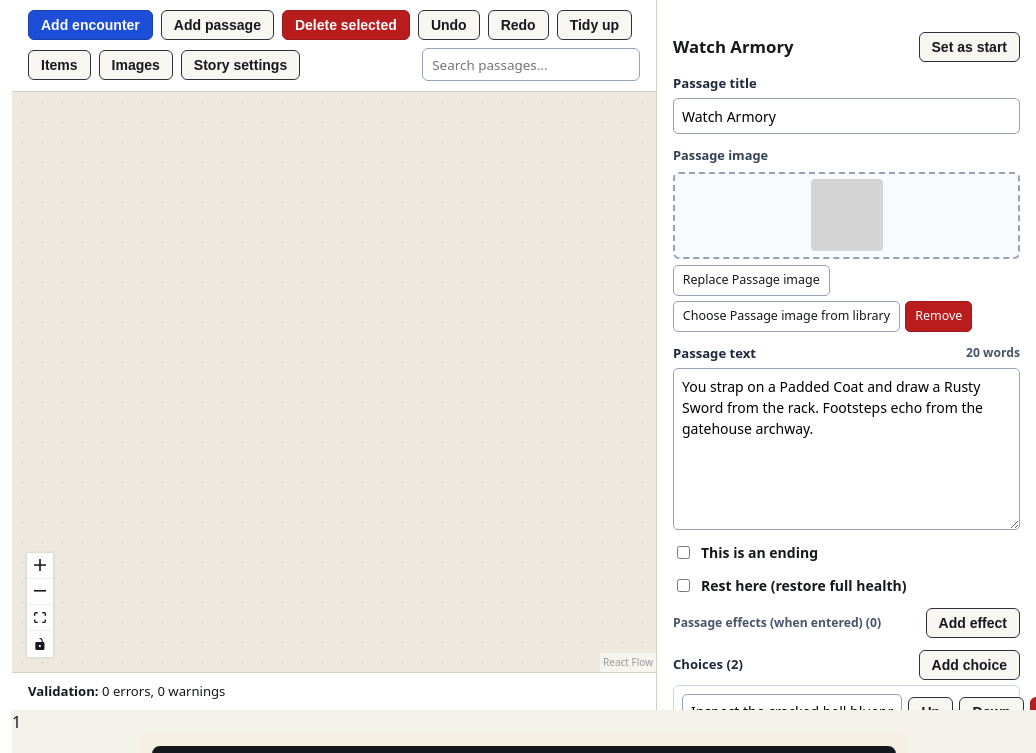
Test: PassageInspector choice authoring (#42, #43) › sets passage image shown in play mode, marks endings, sets start passage uniquely, and counts words (#43)
This screenshot has width=1036, height=753.
Earlier steps of the test are not shown.
Later steps or results of the test are not shown.
Expected: the text with test id "passage-word-count" reads "20 words", [966,344,1020,363]
Replace the text in the text box labelled "Passage text" with "One two three four five." at (846, 449), box [673,368,1020,530]
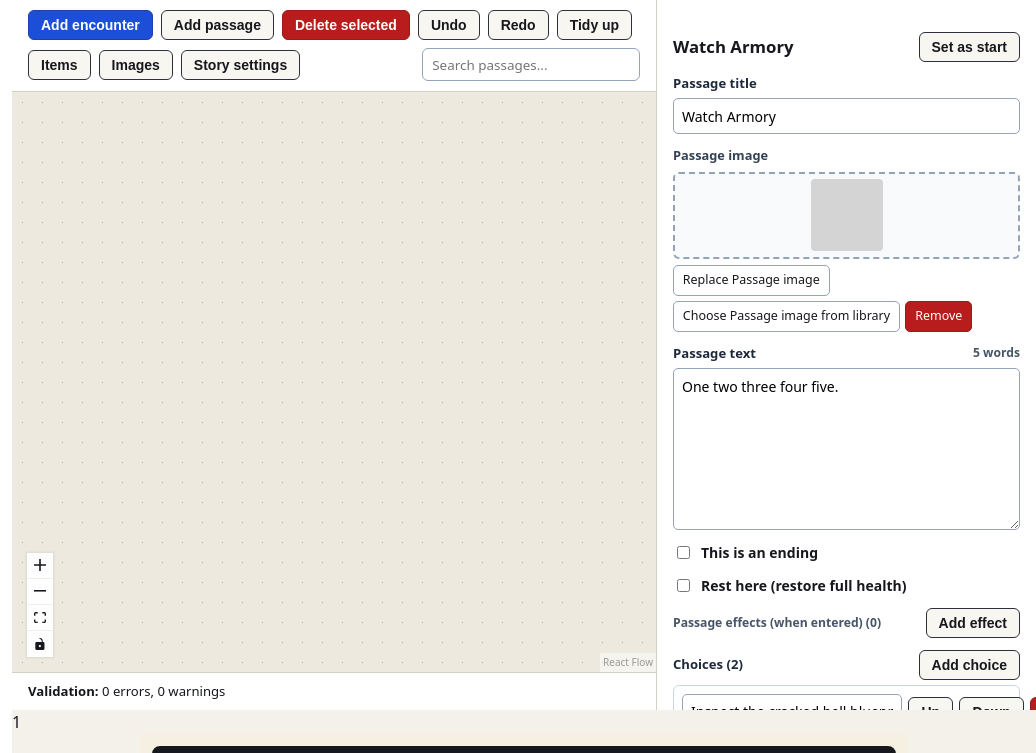
Result: the text with test id "passage-word-count" reads "5 words" at [973,344,1020,363]
